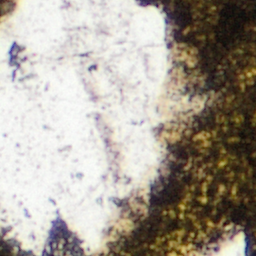cement_matrix: (105, 0, 255, 255), (46, 225, 84, 255), (0, 236, 26, 255), (9, 44, 22, 67), (0, 0, 9, 15)
gravel_crushed_stones: (0, 0, 206, 255), (174, 230, 246, 255), (8, 43, 23, 68)
